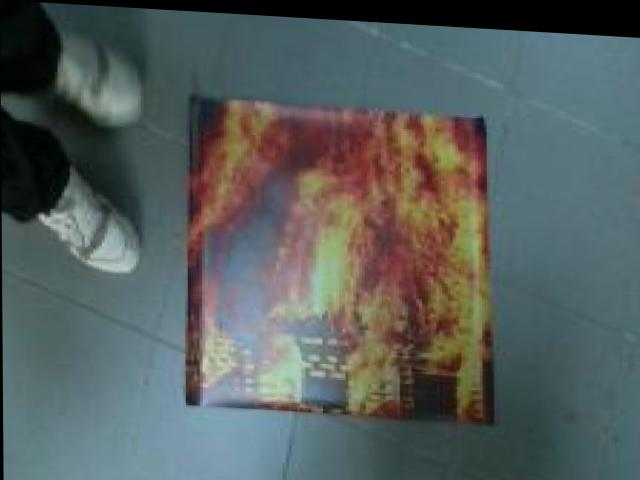fire-poster: (180, 89, 499, 424)
